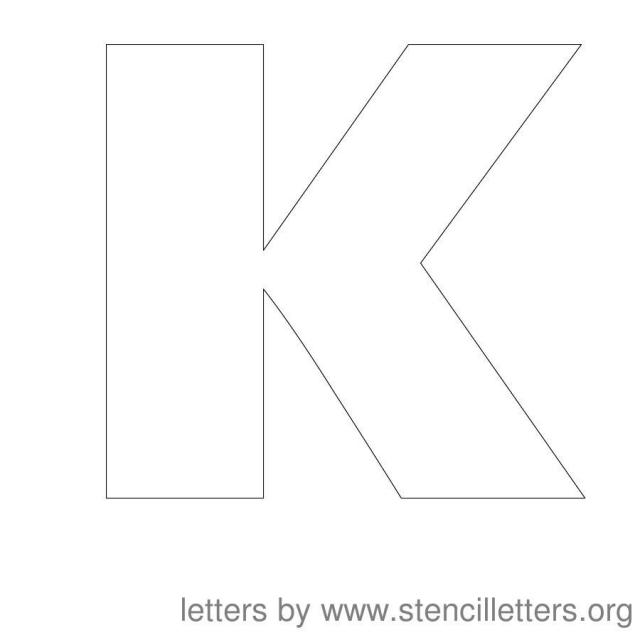K: (50, 21, 606, 534)
